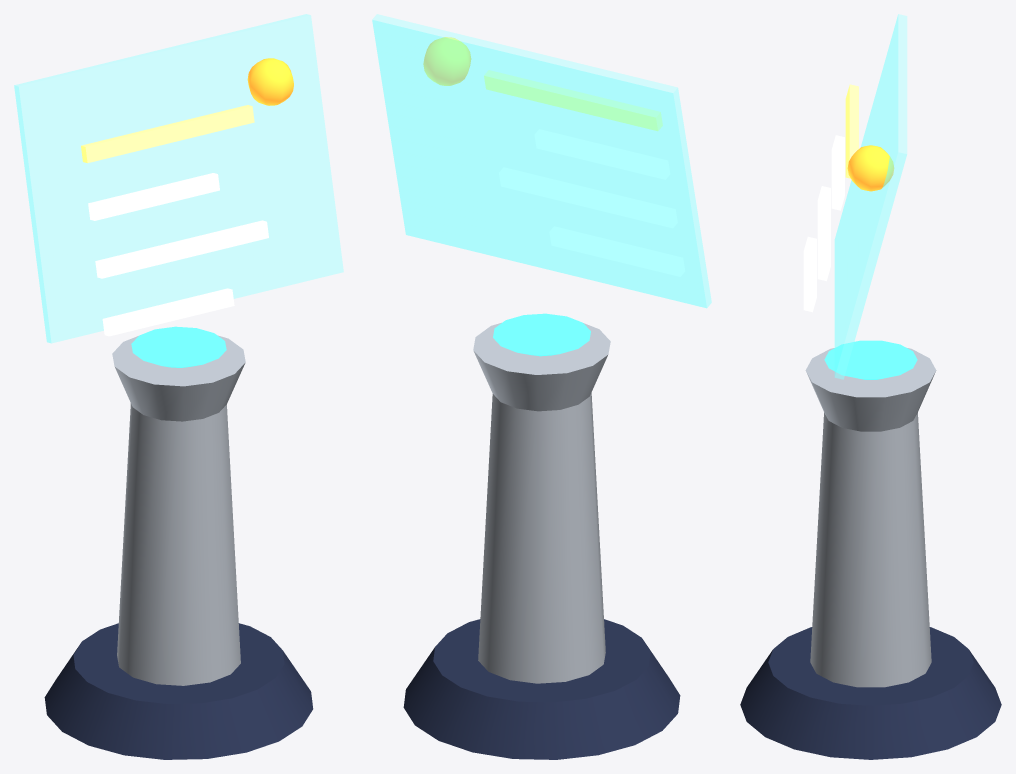
File: space_holo_menu.glb
3 renders of one model, left to right at view 1: azimuth 30°, elevation 25°; view 2: azimuth 150°, elevation 25°; view 3: azimuth 270°, elevation 25°, orthographic. The views are drawn at different scales.
Parts seen in each view (by area): view 1: card, object 2, object 1, object 3, object 8, object 6, object 4, object 9, object 7, object 10; view 2: card, object 2, object 1, object 3, object 6, object 8, object 4, object 7, object 9, object 10; view 3: object 2, object 1, card, object 3, object 4, object 10, object 8, object 6, object 7, object 9.
Boxes of the visible parts, x1,y1,x2,y2 form: card: (14,14,343,343); object 2: (117,403,240,685); object 1: (44,623,313,759); object 3: (112,335,245,421); object 8: (95,220,268,278); object 6: (81,105,254,163); object 4: (131,326,226,367); object 9: (102,288,234,336); object 7: (88,173,219,220); object 10: (247,58,293,105); card: (372,14,711,308); object 2: (478,393,605,683); object 1: (403,619,680,759); object 3: (473,322,610,411); object 6: (484,70,662,130); object 8: (499,167,677,228); object 4: (493,313,590,356); object 7: (534,129,670,179); object 9: (549,226,684,276); object 10: (423,37,471,85); object 2: (810,412,931,687); object 1: (740,627,1001,759); card: (834,14,907,379); object 3: (805,348,936,431); object 4: (824,340,917,379); object 10: (847,145,894,191); object 8: (817,186,830,281); object 6: (845,84,858,178); object 7: (831,135,844,210); object 9: (803,236,816,312).
Size of the model in its own units: 0.7 by 1.47 by 0.56.
